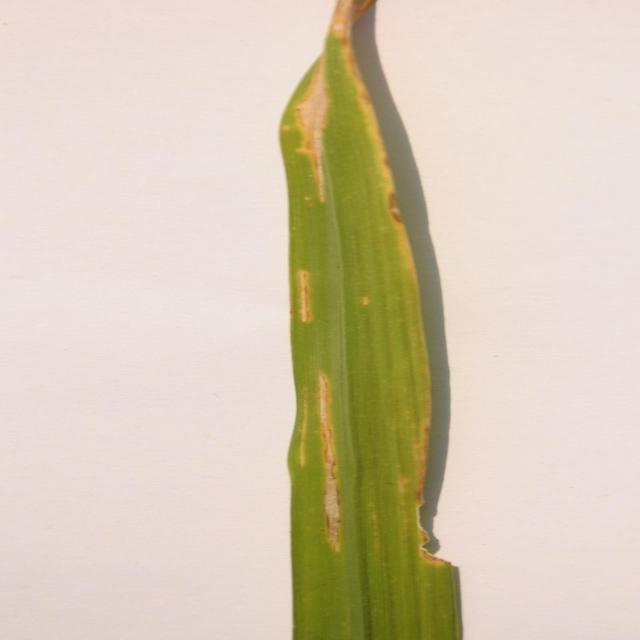leaf blight: (276, 1, 404, 220), (276, 355, 366, 546), (273, 248, 372, 331), (398, 420, 447, 570)
